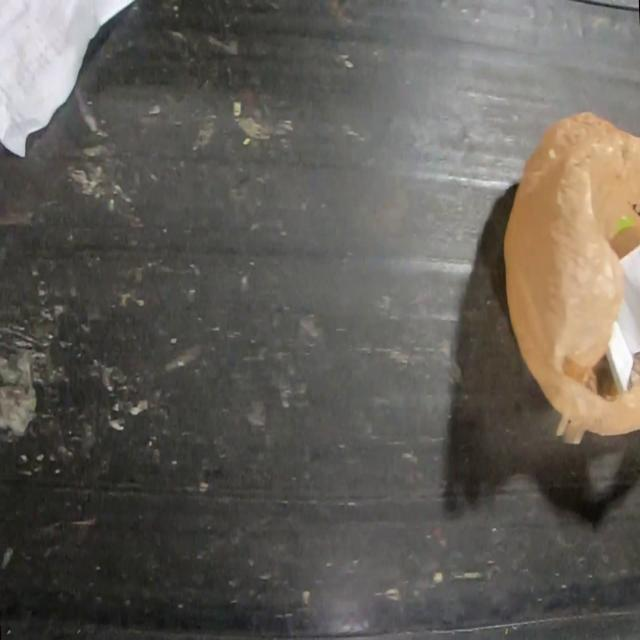soft_plastic: (501, 107, 640, 442)
